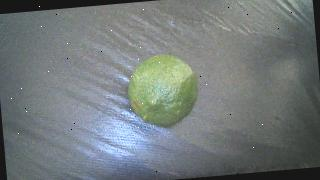DESECHO: (125, 52, 201, 130)
